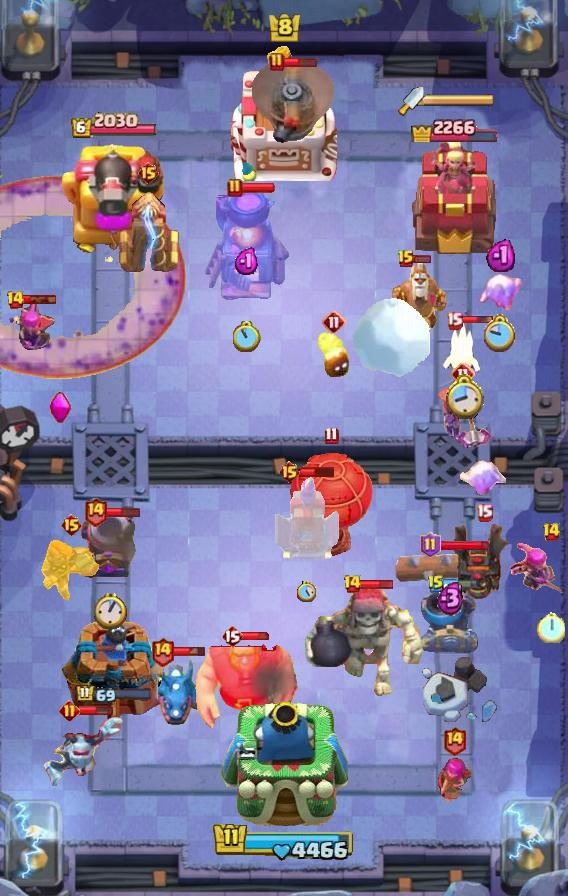archer-evolution: (454, 518, 514, 602)
balloon: (192, 635, 298, 733)
bar: (409, 138, 497, 256)
bat: (442, 321, 484, 375)
bomber: (316, 330, 352, 380)
cannon: (435, 753, 473, 801)
cannon-cart: (286, 448, 376, 558)
clock: (212, 821, 356, 863)
dark-prince: (246, 60, 336, 146)
electro-giant: (301, 585, 425, 697)
electro-spirit: (435, 580, 464, 616), (486, 237, 515, 271), (234, 248, 260, 277)
elixir: (443, 372, 484, 419), (93, 592, 127, 629), (484, 314, 517, 352), (537, 611, 565, 643), (233, 321, 261, 351), (296, 581, 315, 602)
elixir-collector: (392, 255, 448, 351)
elixir-golem-small: (41, 714, 127, 792)
emote: (438, 539, 489, 553), (299, 466, 336, 479), (282, 56, 318, 68), (240, 182, 276, 194), (106, 506, 142, 518), (172, 645, 208, 657), (442, 578, 477, 590), (78, 705, 114, 716), (23, 294, 58, 305), (359, 579, 394, 590), (460, 315, 494, 325), (240, 631, 272, 641), (413, 254, 432, 264)
evolution-symbol: (510, 541, 568, 599), (3, 303, 57, 358)
goblin-brawler: (114, 189, 182, 275)
goblin-cage: (78, 511, 142, 581)
graveyard: (148, 655, 202, 727)
hunter: (203, 193, 291, 303)
ice-spirit-evolution-symbol: (272, 475, 340, 561)
king-tower: (220, 702, 348, 827), (231, 43, 337, 181)
king-tower-bar: (424, 93, 496, 107)
minion: (394, 550, 501, 586)
mirror: (475, 272, 525, 310), (456, 459, 506, 497)
musketeer: (420, 589, 480, 653)
queen-tower: (62, 613, 166, 731)
rocket: (0, 175, 186, 379)
selected: (408, 112, 498, 142), (70, 112, 158, 140), (75, 684, 153, 705)
skeleton-king-skill: (49, 391, 73, 425)
tesla-evolution: (433, 377, 493, 457), (40, 537, 102, 605)
text: (83, 497, 108, 528), (149, 637, 174, 668), (442, 725, 467, 756), (322, 310, 346, 334), (451, 362, 475, 386), (136, 161, 159, 185), (278, 460, 301, 484), (61, 513, 84, 537), (419, 532, 440, 558), (221, 624, 243, 648), (59, 700, 80, 721), (6, 290, 26, 310), (542, 522, 562, 542), (342, 574, 361, 594), (397, 249, 415, 269), (427, 574, 445, 594), (476, 503, 493, 522), (269, 52, 285, 72), (227, 178, 243, 198), (446, 311, 463, 329), (325, 427, 339, 445)
tower-bar: (60, 138, 168, 256)
wall-breaker: (350, 296, 432, 378)
